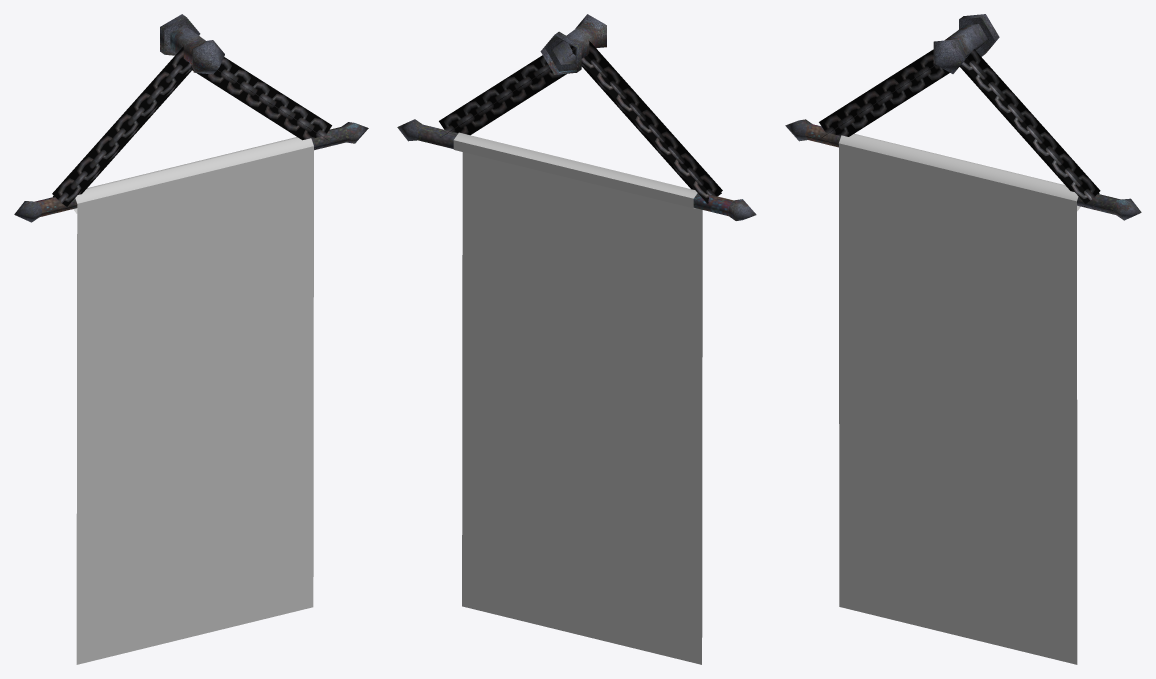
Rendered from Banner_2.FBX.
3 views of the same model, side by side, from view 1: azimuth 30°, elevation 25°; view 2: azimuth 150°, elevation 25°; view 3: azimuth 330°, elevation 25° (orthographic).
Parts seen in each view (by area): view 1: Object16; view 2: Object16; view 3: Object16.
Boxes of the visible parts, x1,y1,x2,y2 form: Object16: (14, 14, 368, 664); Object16: (397, 14, 756, 664); Object16: (785, 14, 1141, 664).
Bounding box in the file's own units: 24.4 × 39.79 × 5.2.
